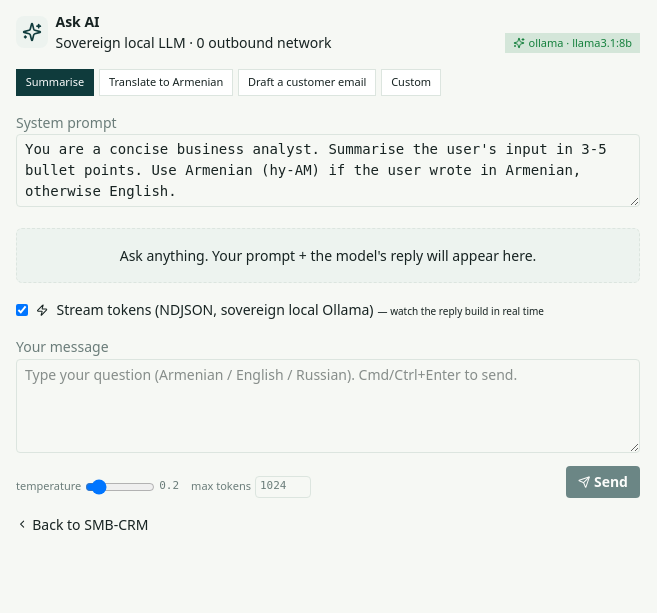
Ask AI — input + send › never renders an API key (there is no API key)
Click the checkbox with test id "smb-crm-ai-streaming-checkbox". click: click(22, 310)
box: [16,304,28,316]
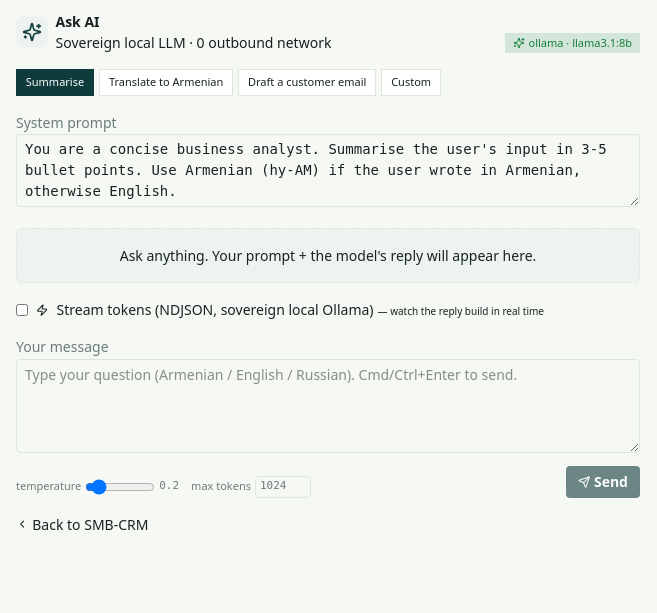
Replace the text in the text box with test id "smb-crm-ai-user-input" with "hi". click: (328, 406)
box: [16,359,640,453]
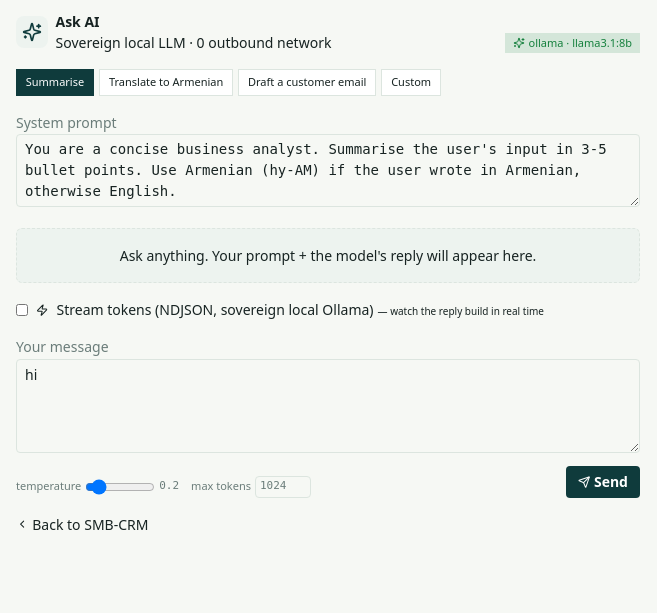
Click the button with test id "smb-crm-ai-send". click: click(603, 482)
box: [566,466,640,498]
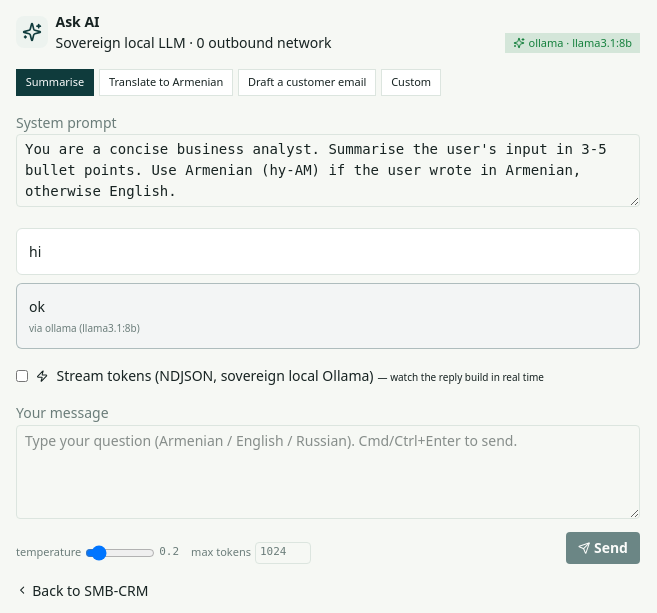
Check: the number of elements with test id "smb-crm-ai-history-user" is 1, box [29,242,41,261]
